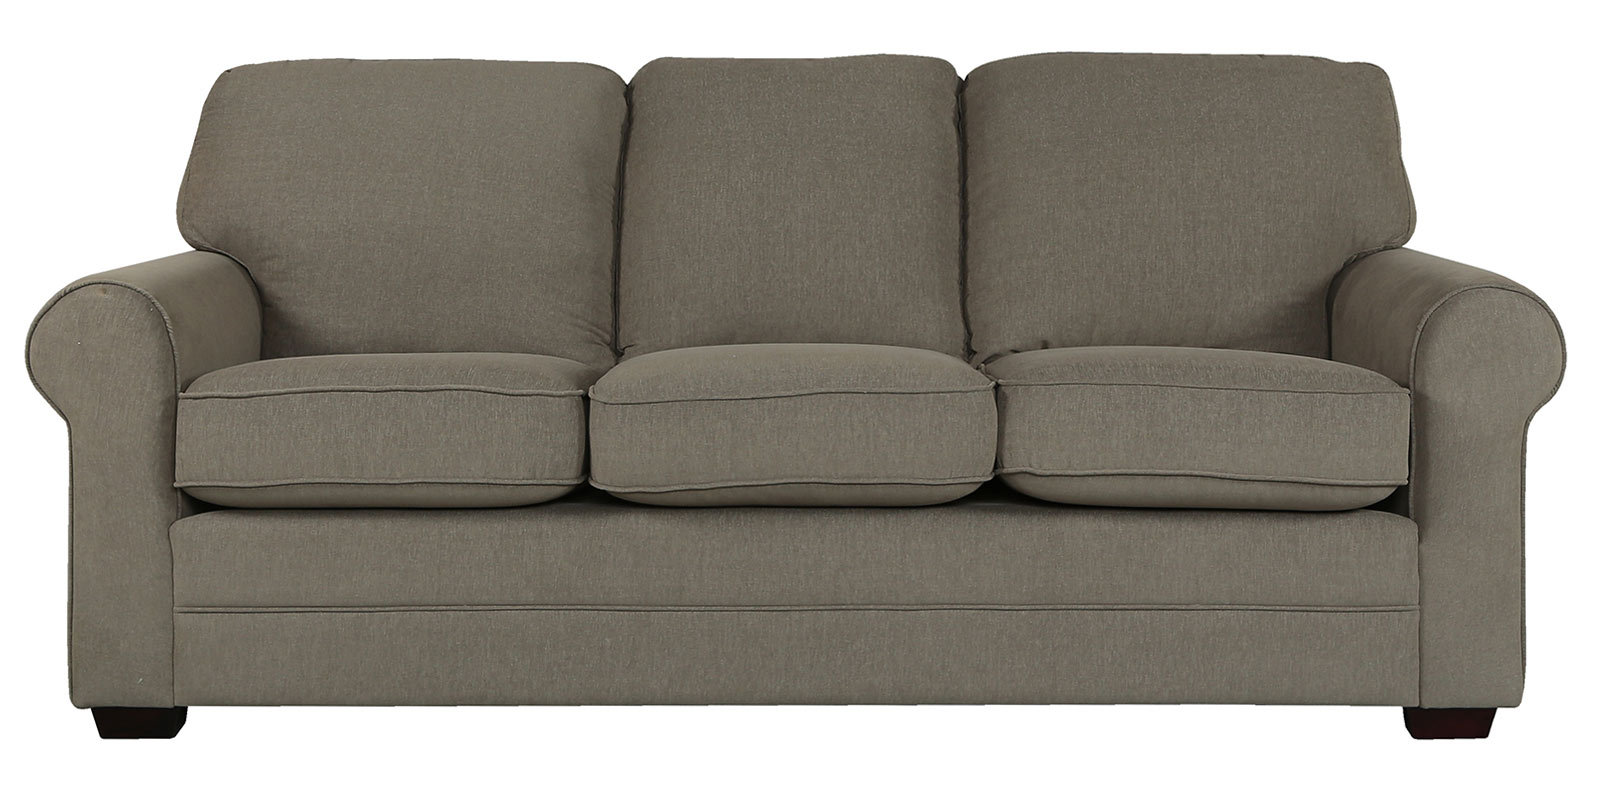Madeira Three Seater Sofa in Sandy Brown Colour by CasaCraft: (26, 49, 1567, 741)
